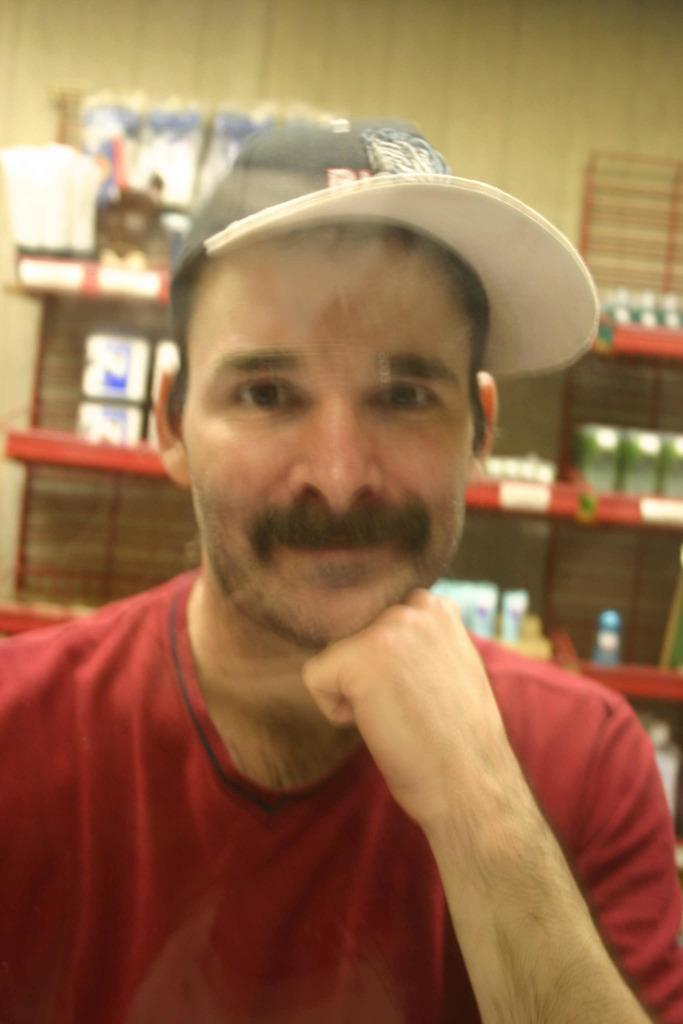Hat: (161, 118, 599, 382)
